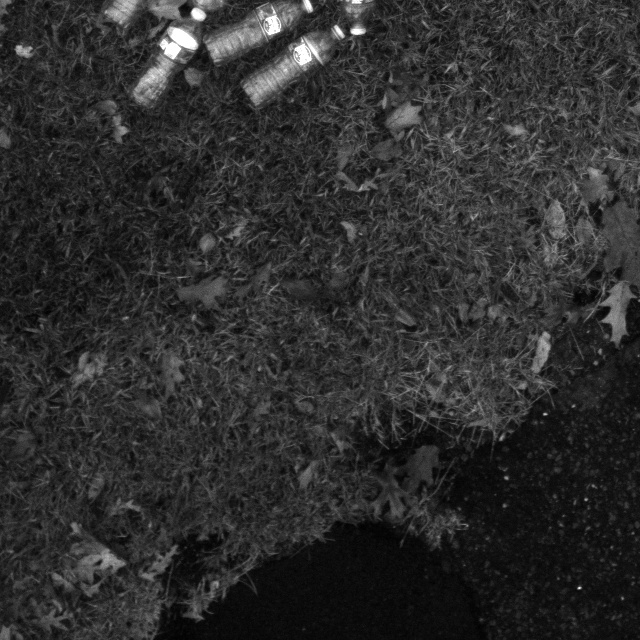bottle: (125, 5, 213, 113), (246, 29, 372, 91), (208, 0, 315, 62)
